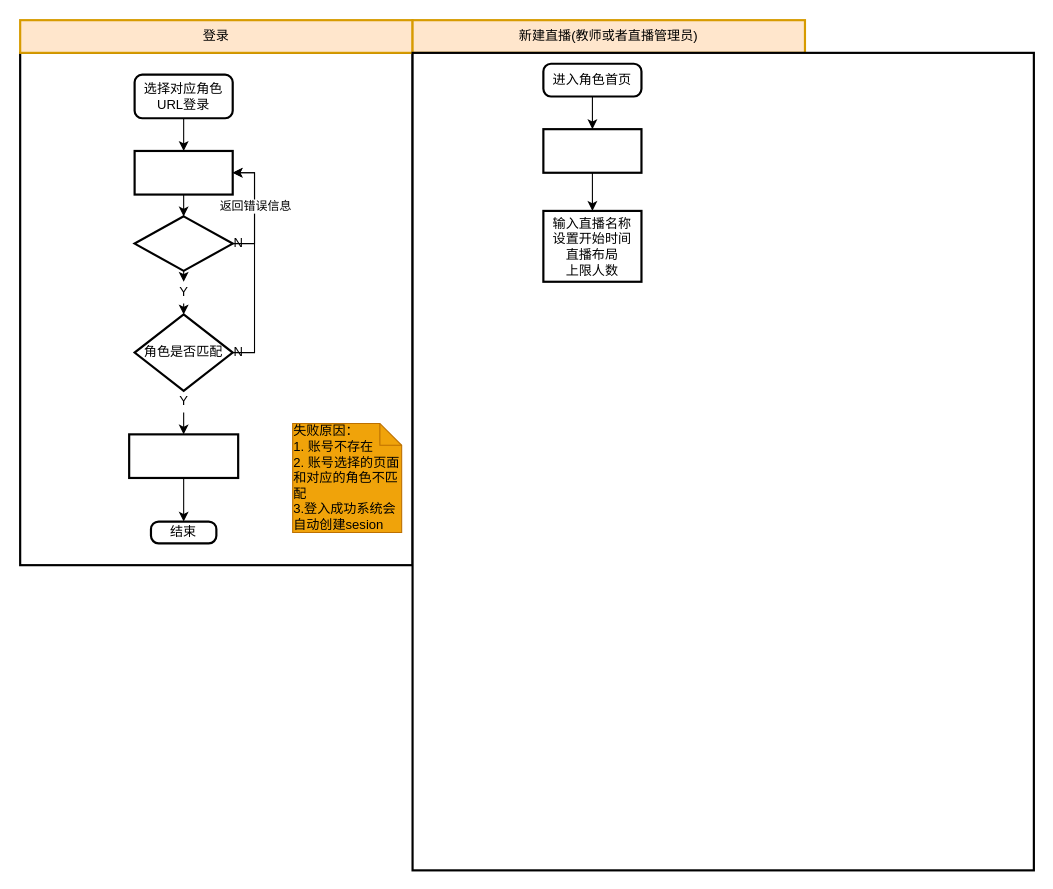
Some shapes in this 1053 by 889 pixel diagram are drawn without their labels. Each missing label, with the box of its shape:
检查用户信息: (133, 215, 233, 271)
输入账号 和密码登入: (133, 149, 233, 195)
进入对应角色首页 （无角色则创建）: (128, 433, 239, 479)
选择新建直播: (542, 128, 642, 173)
